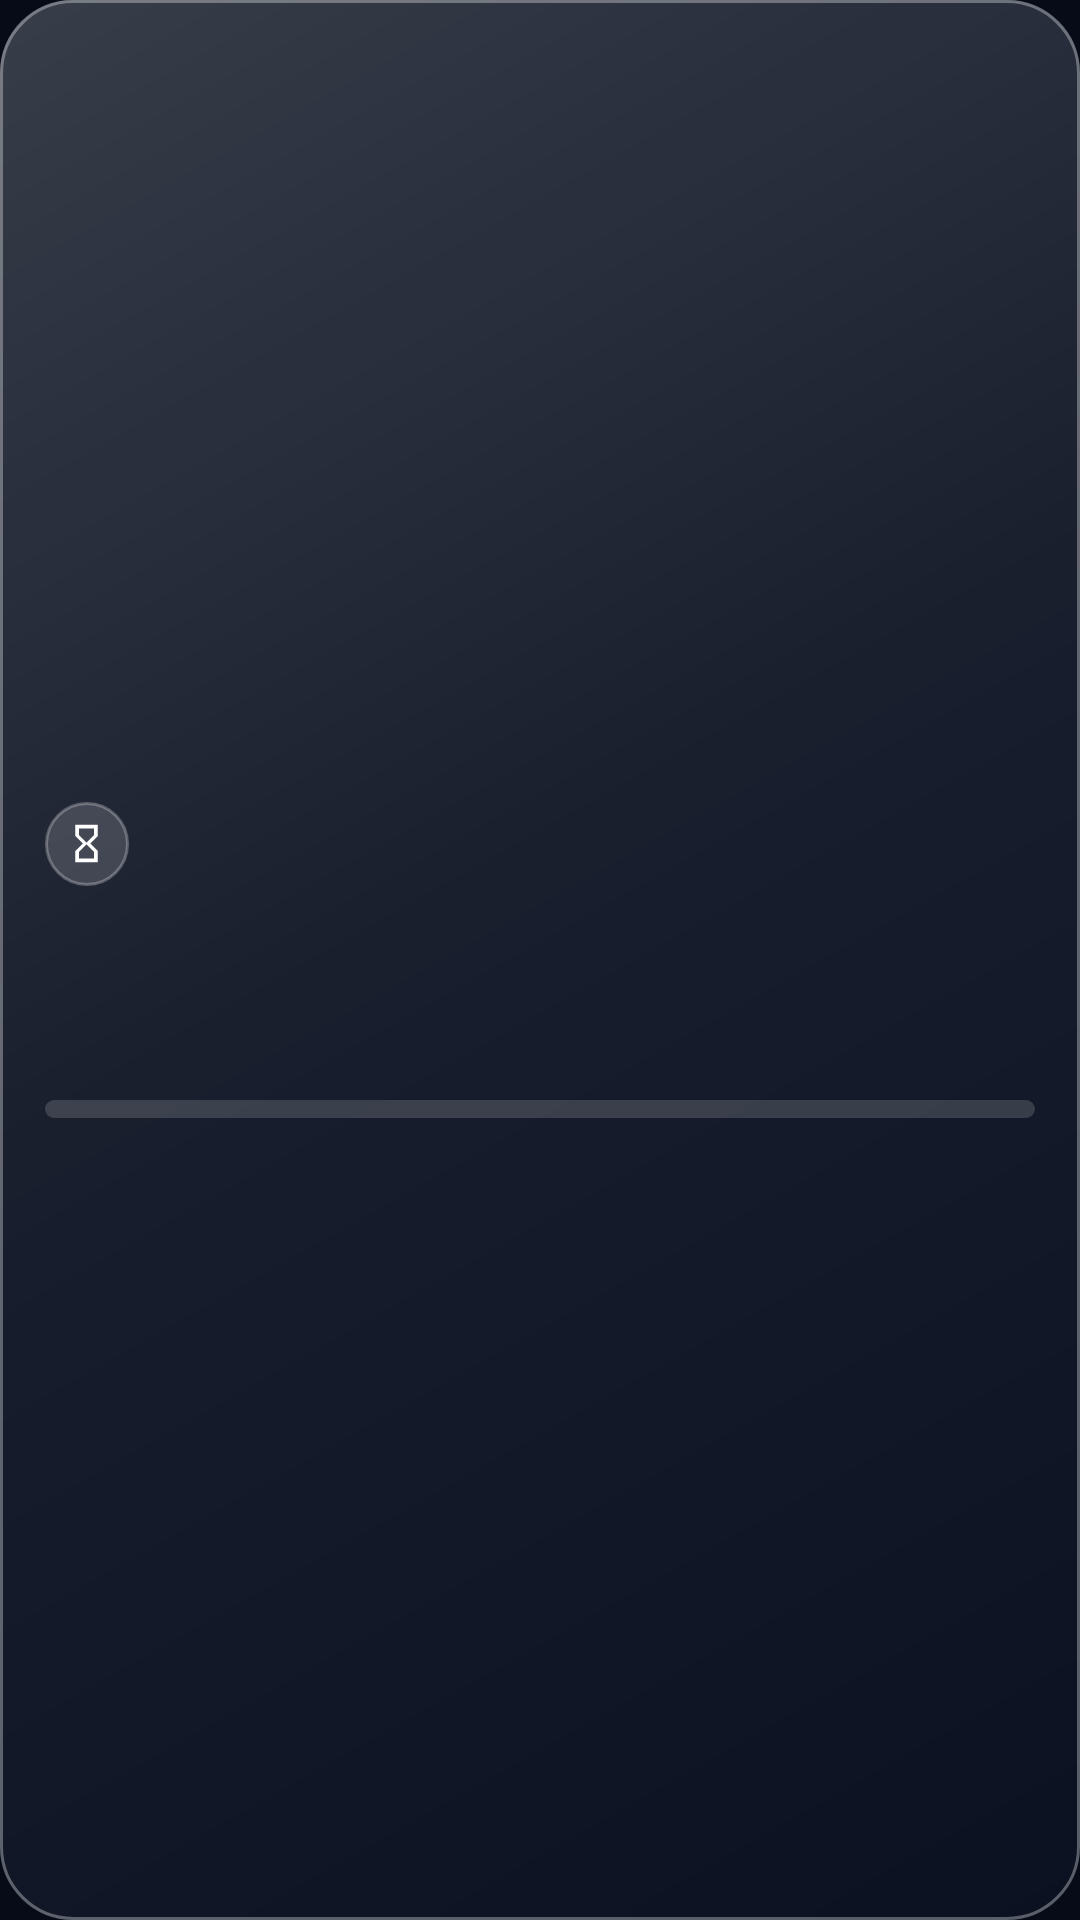

Where to tap for icons on this 1080px×1920px app screen, as (x=x, y=y):
hourglass: (x=86, y=843)
